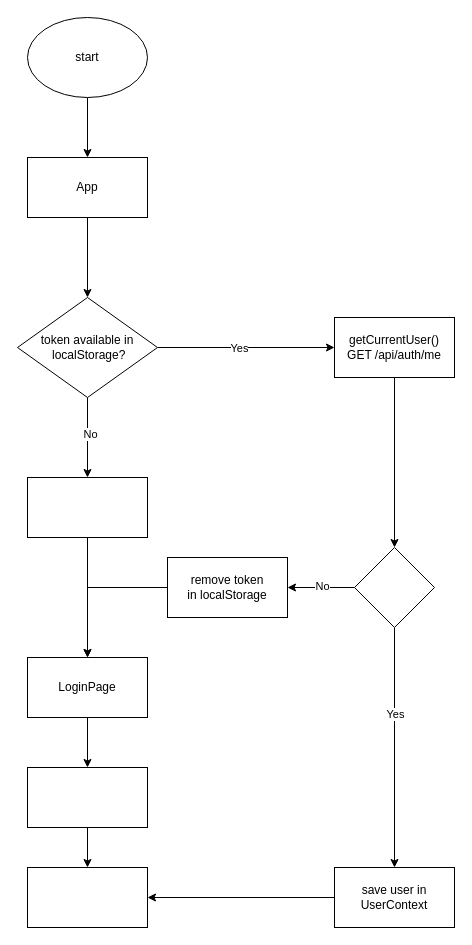
The diagram is 472 pixels wide and 945 high, and some of its shapes have lost their labels. The centre of each missing label's shape, as x and y in pixels:
HomePage: point 87,897
Login: point 87,797
setUser(default): point 87,507
success?: point 394,587
